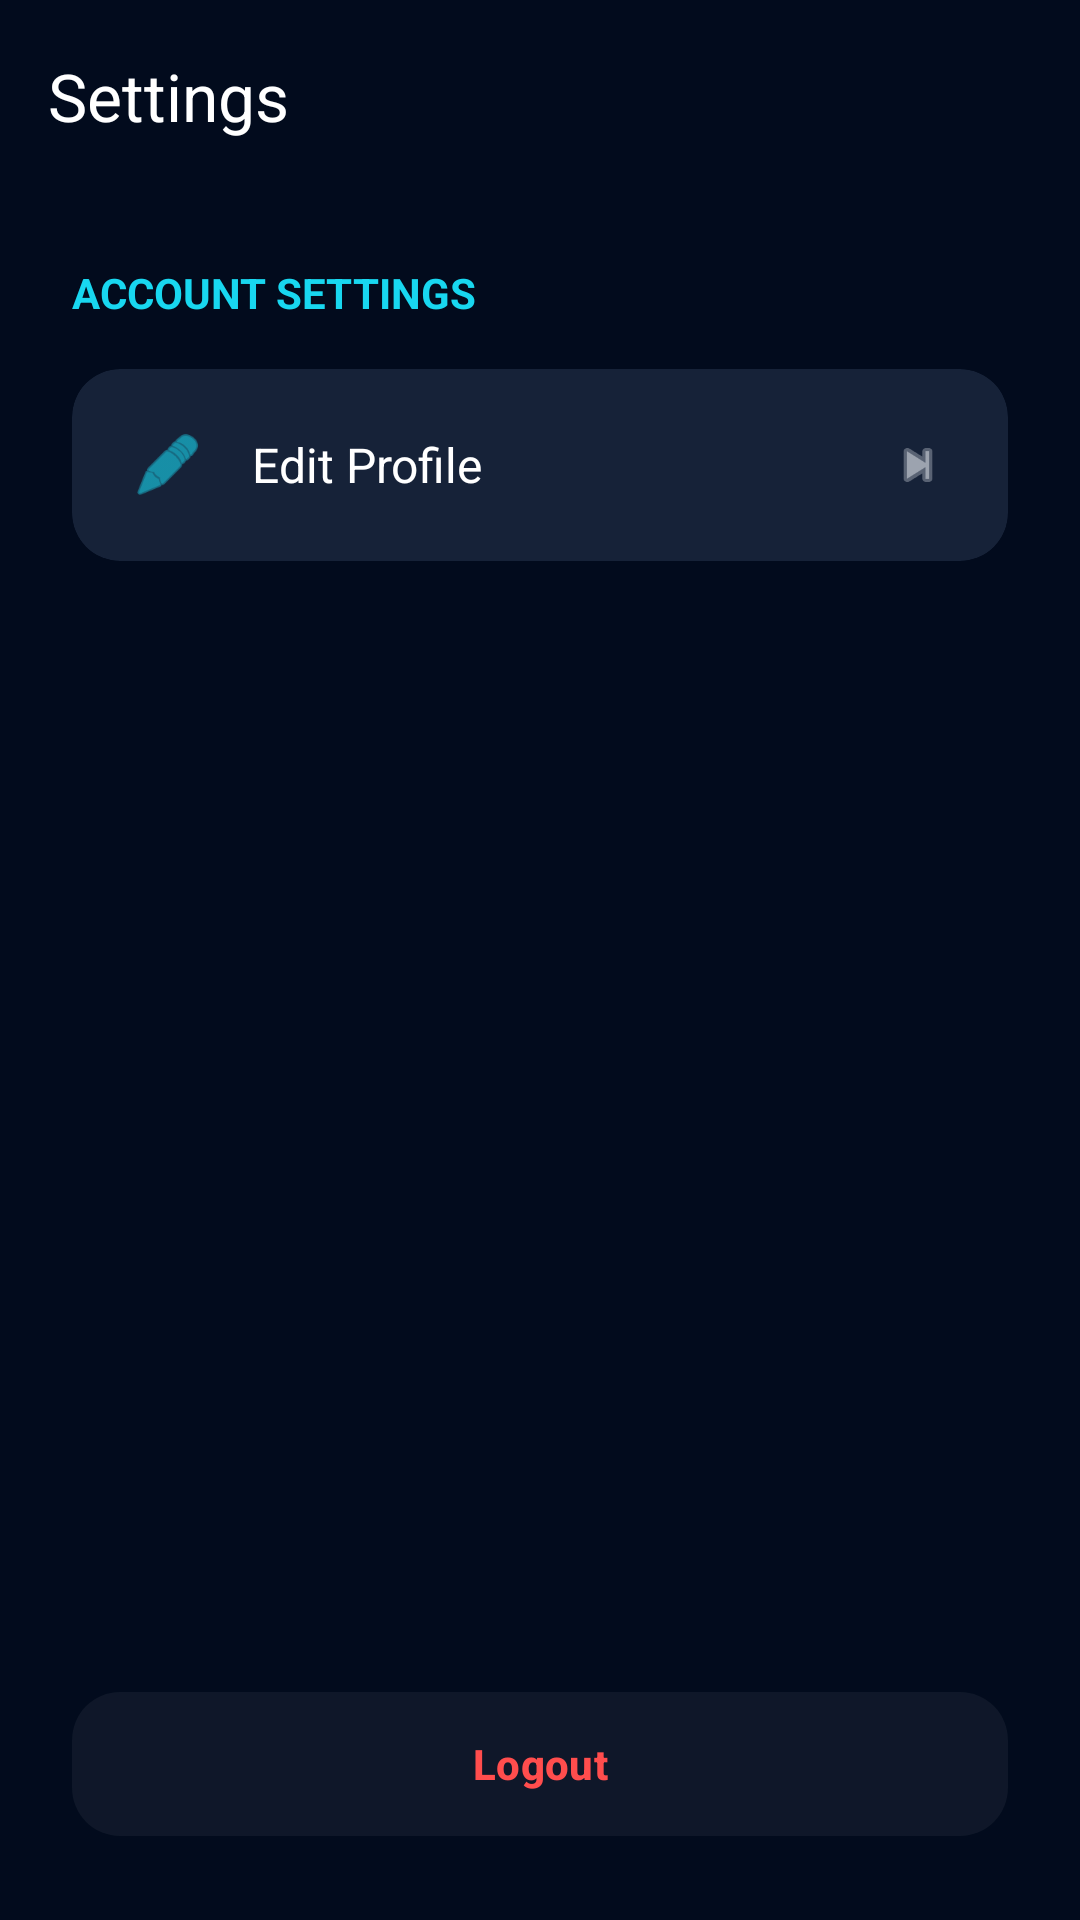

Icon click points for this 1080 × 1920 phone screenshot, format point (x, y):
next: point (918, 465)
